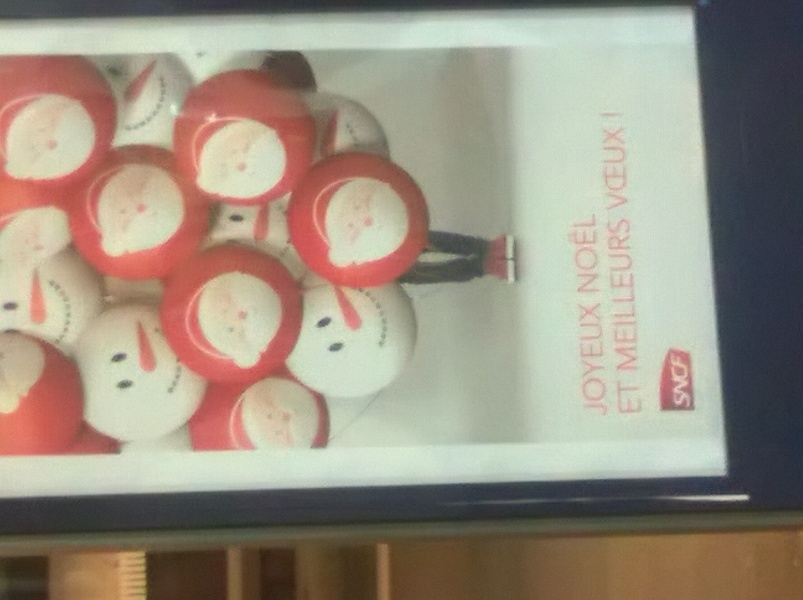text: (609, 218, 624, 371), (625, 218, 640, 371), (593, 302, 608, 417), (578, 302, 592, 417), (609, 127, 624, 212), (577, 214, 592, 294), (673, 353, 688, 408), (568, 214, 576, 294), (593, 214, 600, 294), (602, 127, 608, 212), (625, 381, 640, 414), (625, 127, 629, 212), (618, 381, 624, 414), (607, 218, 608, 371), (609, 302, 610, 417), (670, 353, 672, 408), (609, 113, 623, 118), (641, 381, 643, 414), (689, 353, 690, 408), (600, 113, 608, 118)
